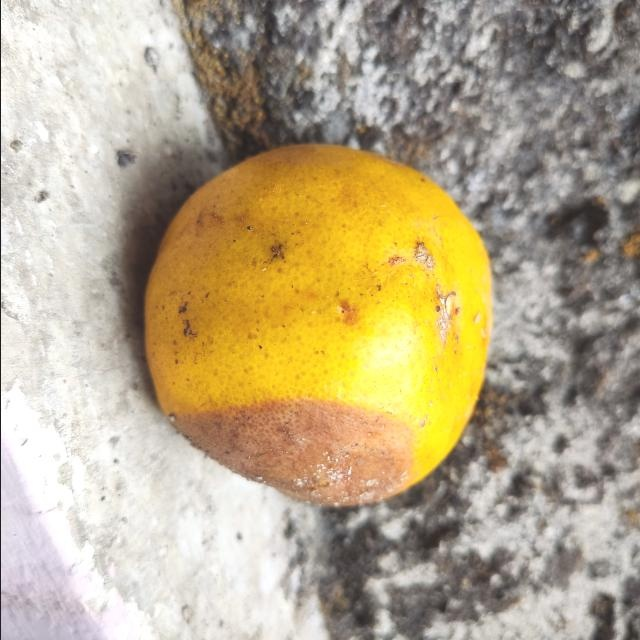agrume: (144, 145, 494, 507)
